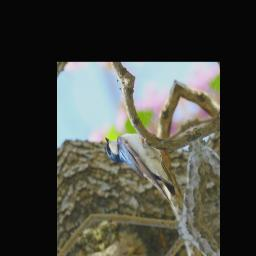Swallow: (102, 114, 186, 225)
